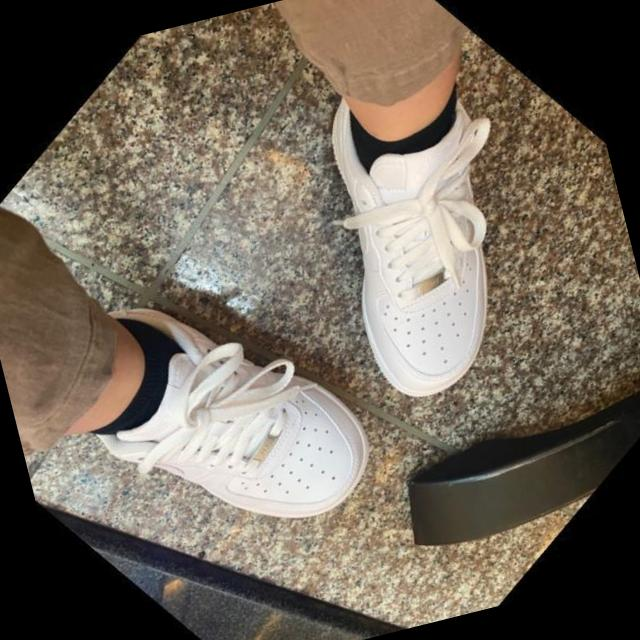nike_original_airforce: (0, 184, 429, 637), (211, 24, 640, 454)
